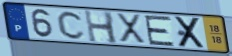6: (30, 8, 55, 39)
C: (56, 10, 87, 41)
E: (143, 15, 176, 47)
H: (82, 9, 120, 46)
X: (173, 16, 207, 49), (115, 12, 147, 46)
